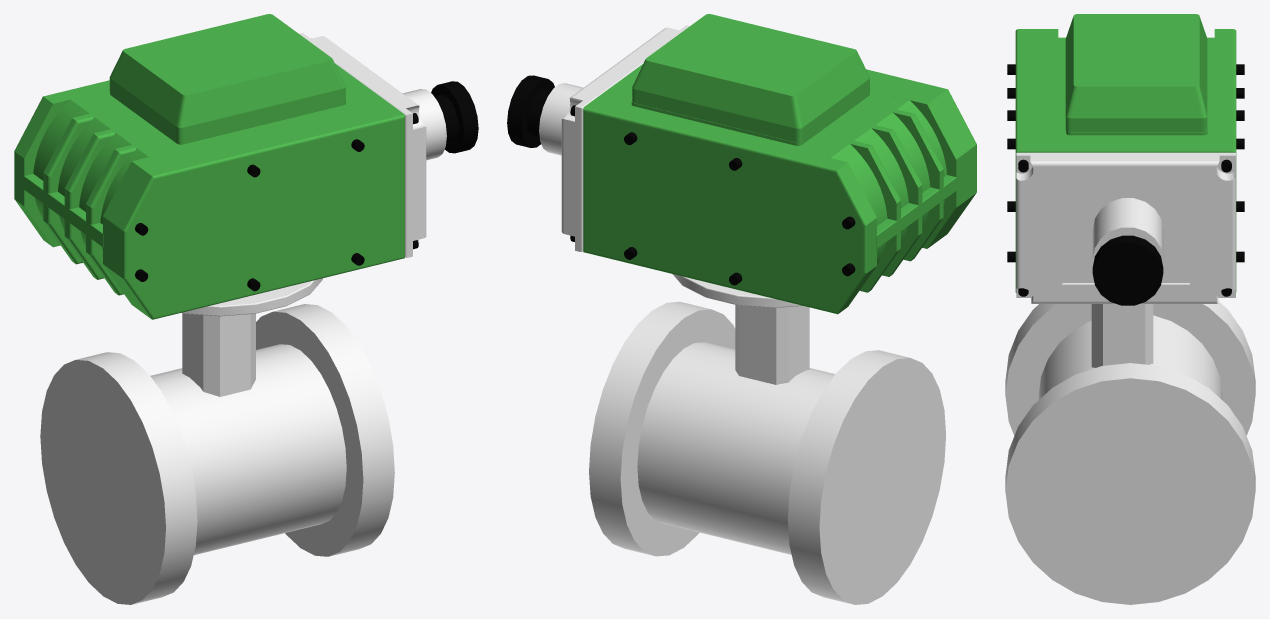
3 views of the same model, side by side, from view 1: azimuth 30°, elevation 25°; view 2: azimuth 150°, elevation 25°; view 3: azimuth 270°, elevation 25° (orthographic).
Visible parts, largest first — view 1: 电动阀门, 连接管, Obj3d66-1437639-14-690, Cylinder003, 螺母; view 2: 电动阀门, 连接管, Obj3d66-1437639-14-690, Cylinder003, 螺母; view 3: 连接管, 电动阀门, Obj3d66-1437639-14-690, Cylinder003, 螺母.
Boxes of the visible parts, x1=… form: 电动阀门: x1=14, y1=14, x2=404, y2=319; 连接管: x1=40, y1=278, x2=394, y2=604; Obj3d66-1437639-14-690: x1=299, y1=32, x2=446, y2=257; Cylinder003: x1=431, y1=81, x2=478, y2=153; 螺母: x1=135, y1=113, x2=418, y2=291; 电动阀门: x1=583, y1=14, x2=976, y2=314; 连接管: x1=589, y1=274, x2=945, y2=604; Obj3d66-1437639-14-690: x1=539, y1=25, x2=689, y2=251; Cylinder003: x1=507, y1=75, x2=554, y2=147; 螺母: x1=570, y1=105, x2=855, y2=285; 连接管: x1=1005, y1=301, x2=1255, y2=604; 电动阀门: x1=1015, y1=14, x2=1236, y2=292; Obj3d66-1437639-14-690: x1=1016, y1=152, x2=1235, y2=303; Cylinder003: x1=1092, y1=235, x2=1163, y2=305; 螺母: x1=1007, y1=64, x2=1244, y2=296.
Bounding box in the file's own units: 61.95 × 76.48 × 34.3.
